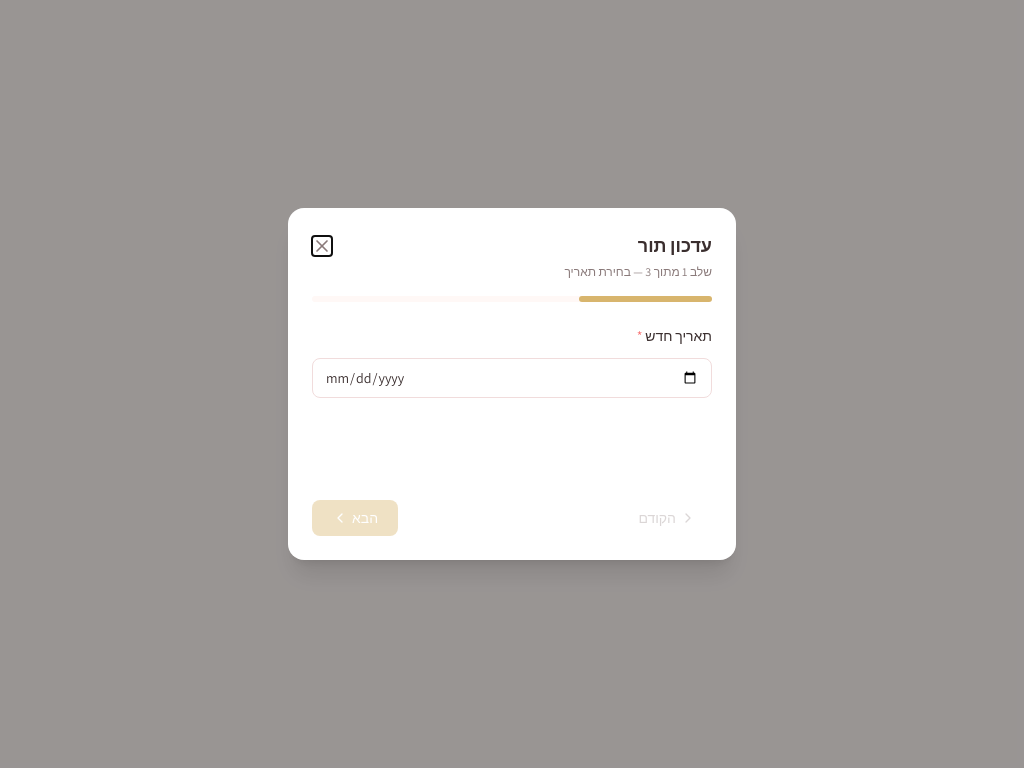
Test: RescheduleModal › reschedules an appointment: submits the new startTime/endTime, preserving the original duration
Type "2099-01-14" into the date field. click: (512, 378)
box: 312,358 -> 712,398
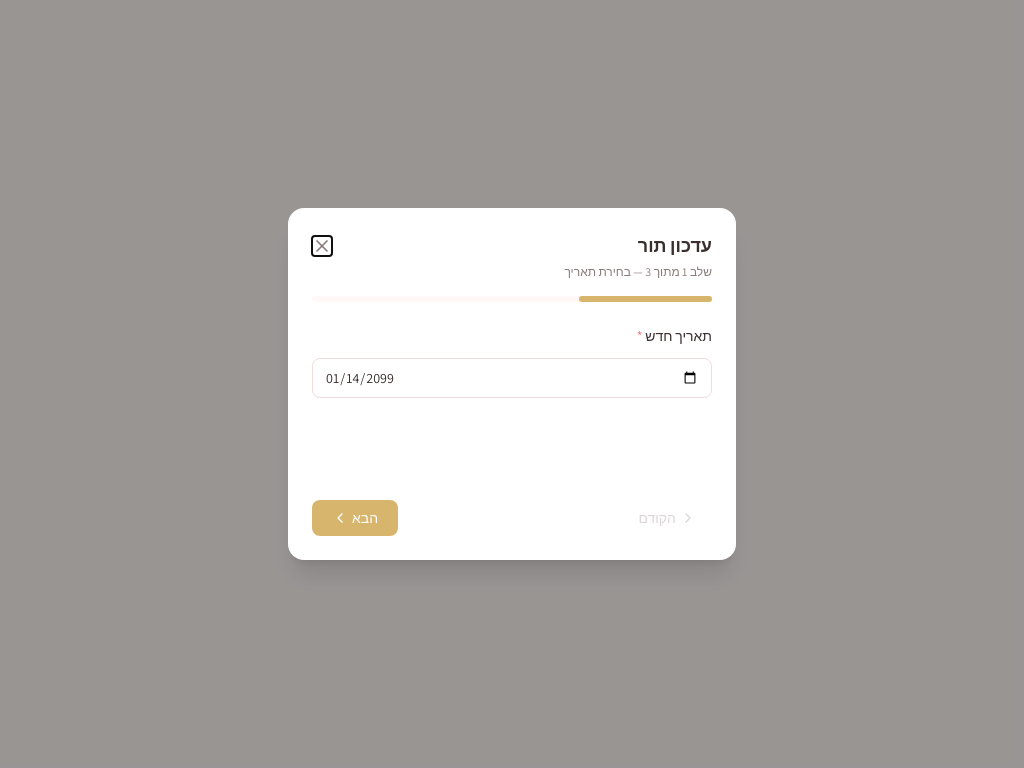
Click the button "הבא". click: click(355, 518)
box: 312,500 -> 398,536
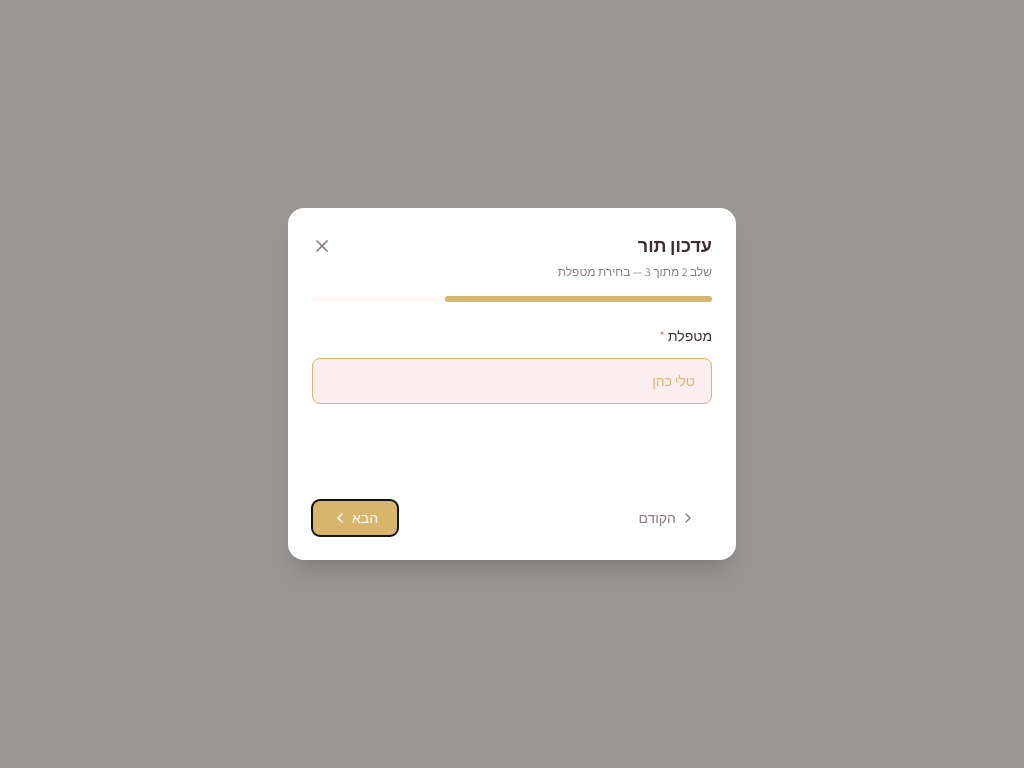
Click the button "טלי כהן". click: click(674, 381)
box: 312,358 -> 712,404
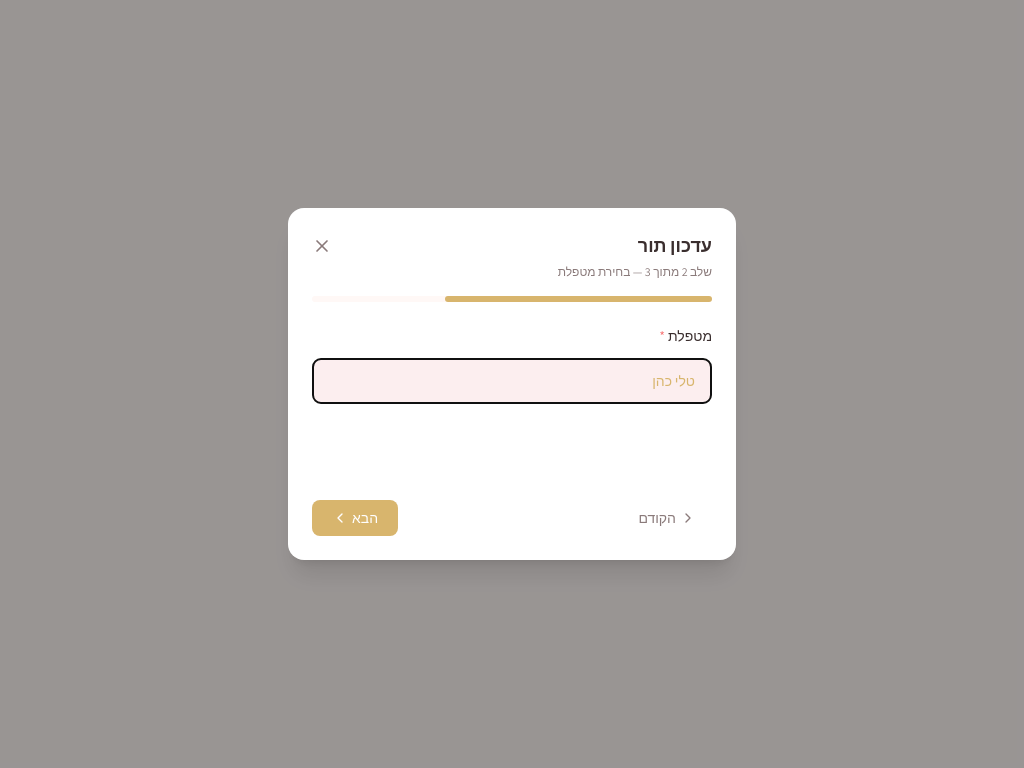
Click the button "הבא". click: click(355, 518)
box: 312,500 -> 398,536
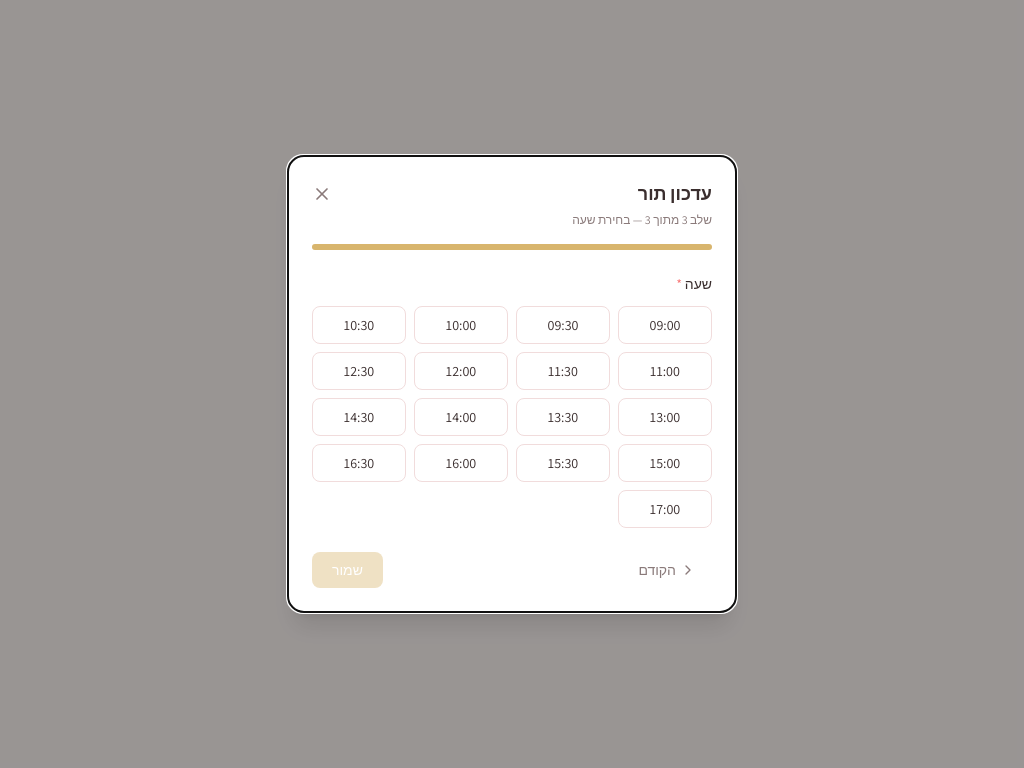
Click the button "09:00". click: click(665, 325)
box: 618,306 -> 712,344
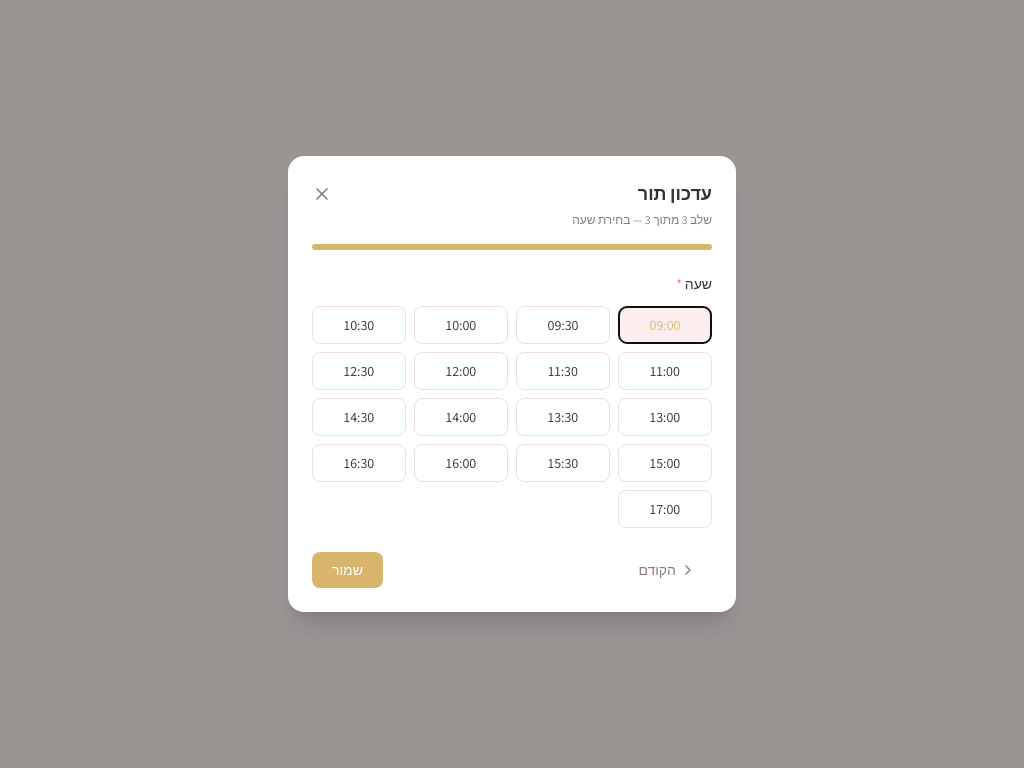
Click the button "שמור". click: click(348, 570)
box: 312,552 -> 383,588
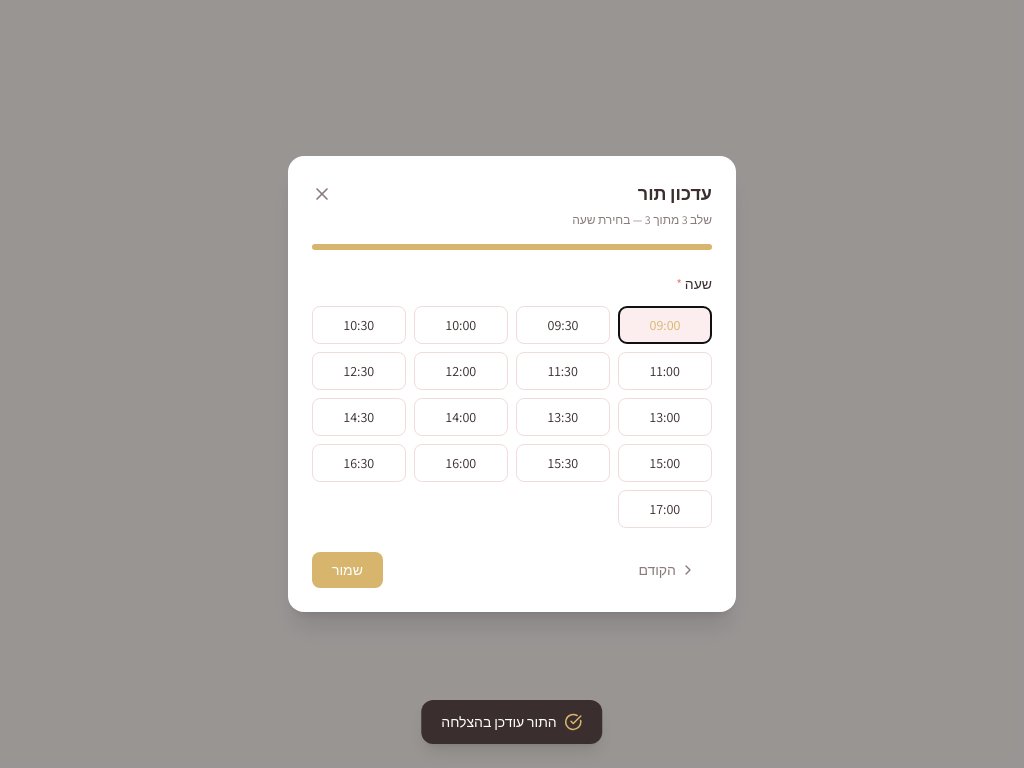
Result: the text "התור עודכן בהצלחה" is shown at 441,712 -> 557,732
